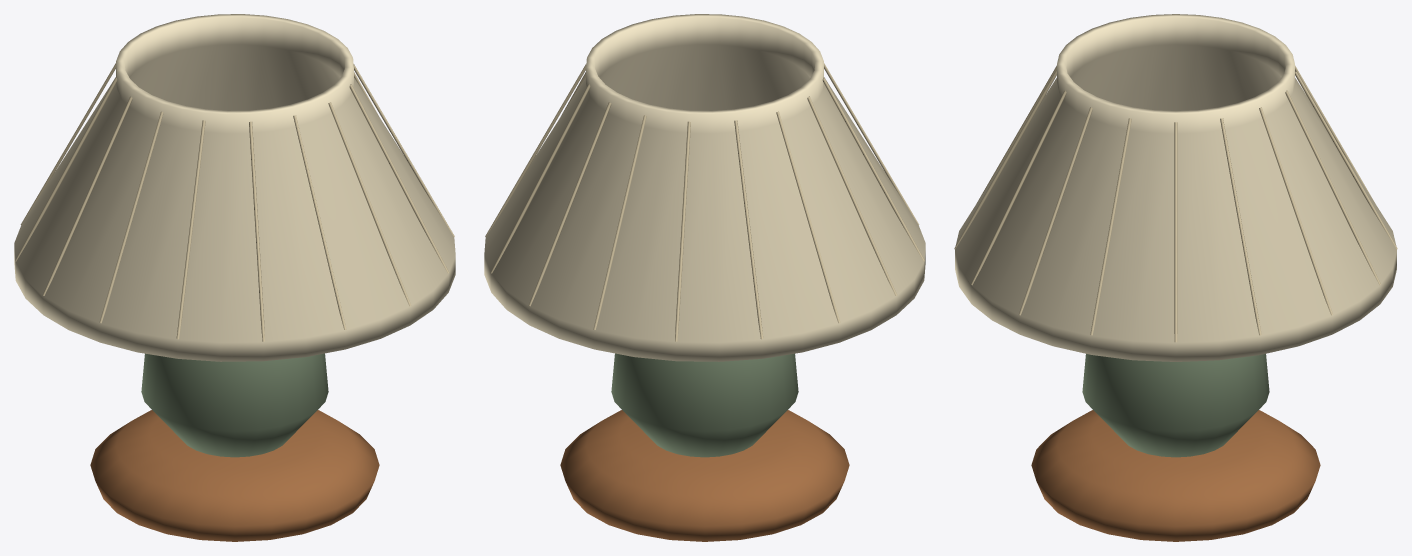
Rendered from lamp.glb.
3 views of the same model, side by side, from view 1: azimuth 30°, elevation 25°; view 2: azimuth 150°, elevation 25°; view 3: azimuth 270°, elevation 25° (orthographic).
Visible parts, largest first — view 1: House_lamp; view 2: House_lamp; view 3: House_lamp.
Boxes of the visible parts, x1,y1,x2,y2 form: House_lamp: (14,14,455,541); House_lamp: (484,14,925,541); House_lamp: (954,14,1397,541).
Bounding box in the file's own units: 0.5211 × 0.545 × 0.5211.
